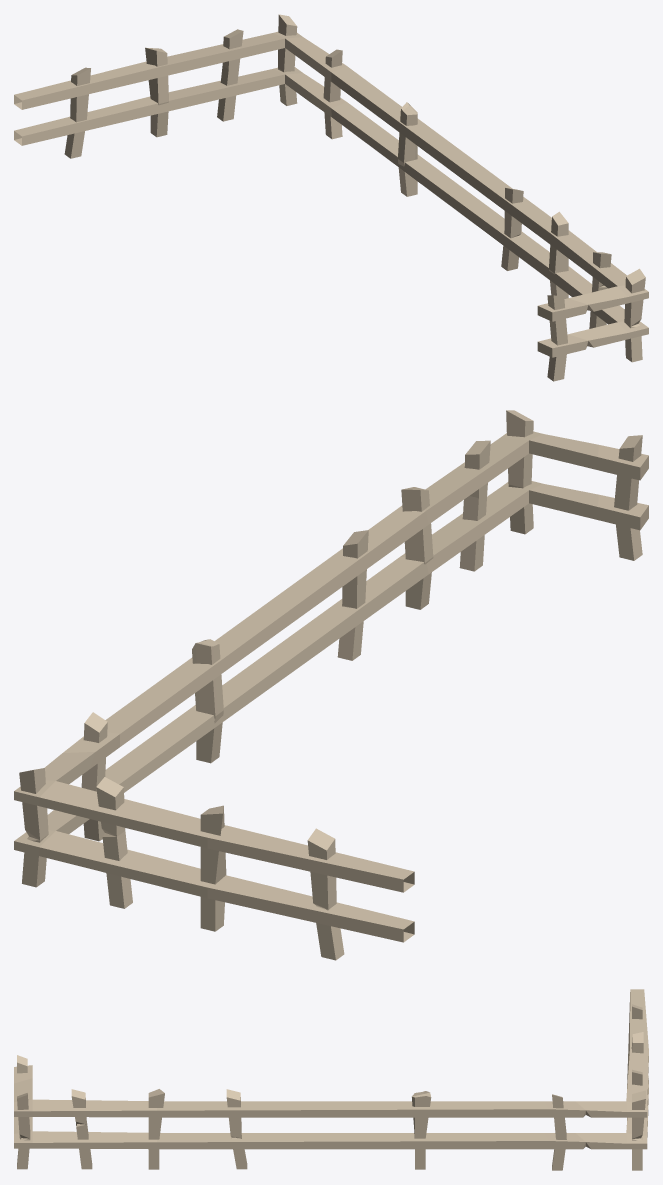
The model's file is Fence_1.fbx.
3 views of the same model, one above another, from view 1: azimuth 30°, elevation 25°; view 2: azimuth 150°, elevation 25°; view 3: azimuth 270°, elevation 25° (orthographic). The views are drawn at different scales.
Parts seen in each view (by area): view 1: Fence_1; view 2: Fence_1; view 3: Fence_1.
Boxes of the visible parts, x1=… form: Fence_1: x1=14, y1=14, x2=648, y2=381; Fence_1: x1=14, y1=410, x2=648, y2=960; Fence_1: x1=14, y1=989, x2=648, y2=1170.
Size of the model in its own units: 356 by 795 by 105.
